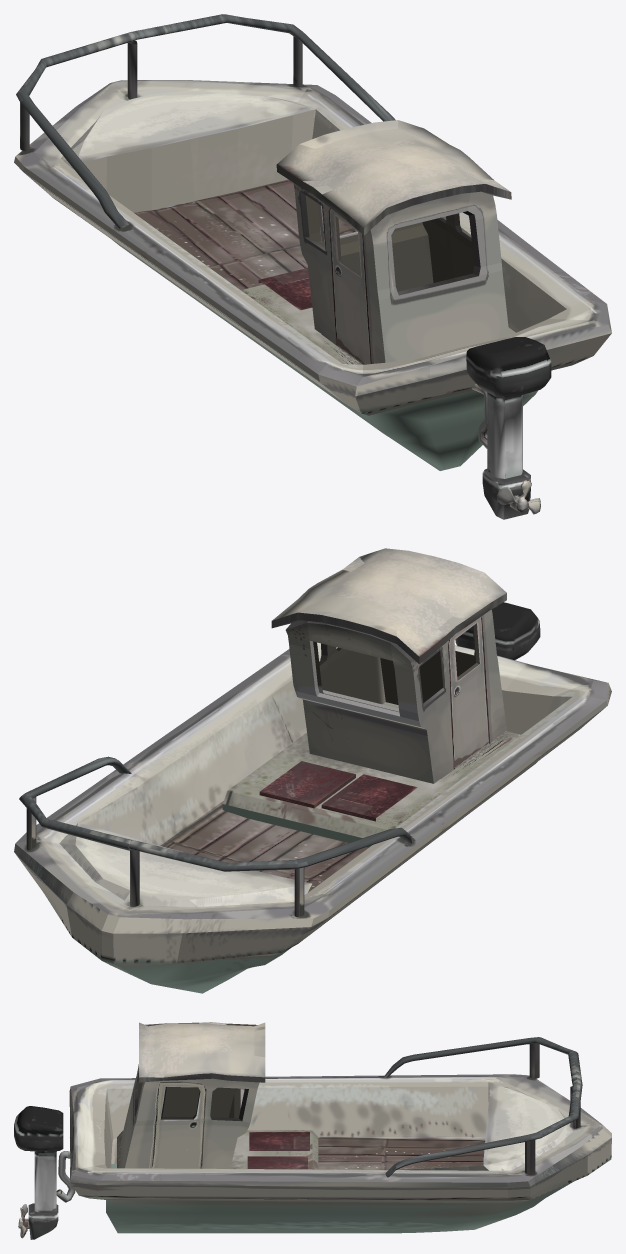
The model's file is SM_boat_V02.fbx.
The picture shows the model from 3 angles, top to bottom: view 1: azimuth 30°, elevation 25°; view 2: azimuth 150°, elevation 25°; view 3: azimuth 270°, elevation 25°; orthographic projection. The views are drawn at different scales.
Parts seen in each view (by area): view 1: Boat; view 2: Boat; view 3: Boat.
Part boxes in pixels (x1,y1,x2,y2): Boat: (14,14,611,519); Boat: (14,548,611,993); Boat: (14,1022,611,1239).
Bounding box in the file's own units: 702 × 598 × 1630.
Materials: 1 (1 with a texture image).
